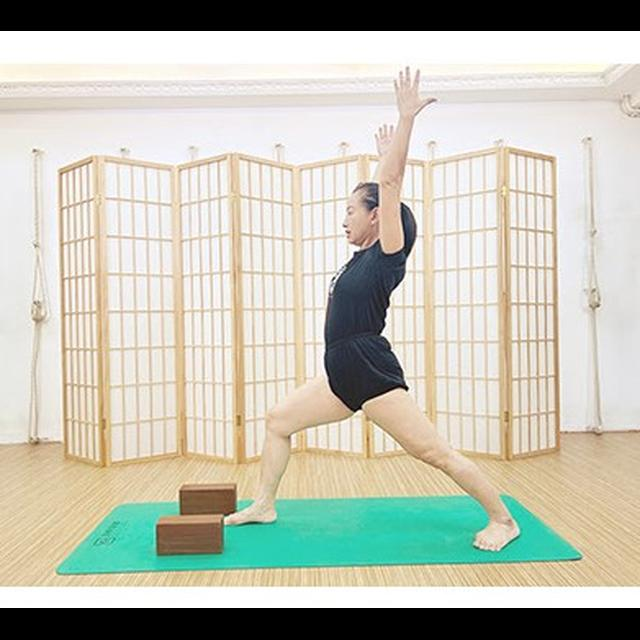Warrior_I: (209, 60, 525, 550)
